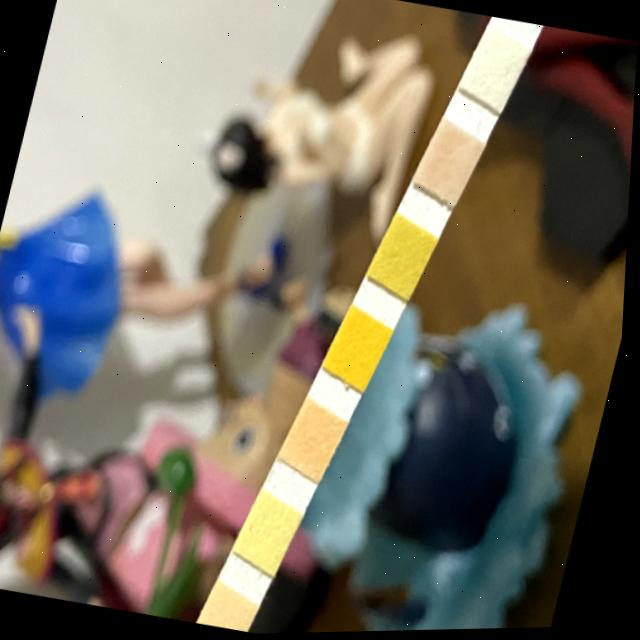Bilirubin: (470, 42, 521, 101)
Blood: (335, 319, 387, 383)
Ketone: (423, 134, 476, 198)
Protein: (247, 501, 302, 563)
SpGravity: (378, 225, 431, 291)
Urobilinogen: (209, 591, 256, 633)
pH: (292, 409, 344, 473)
